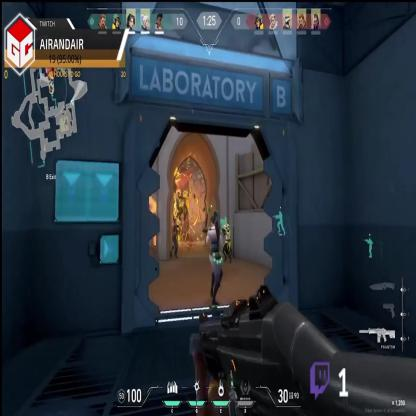enemy: (222, 223, 231, 262), (170, 218, 178, 259), (174, 192, 180, 219), (182, 191, 187, 220)
enemy_head: (224, 224, 228, 230), (173, 218, 176, 225), (177, 192, 180, 196), (184, 190, 186, 196)
